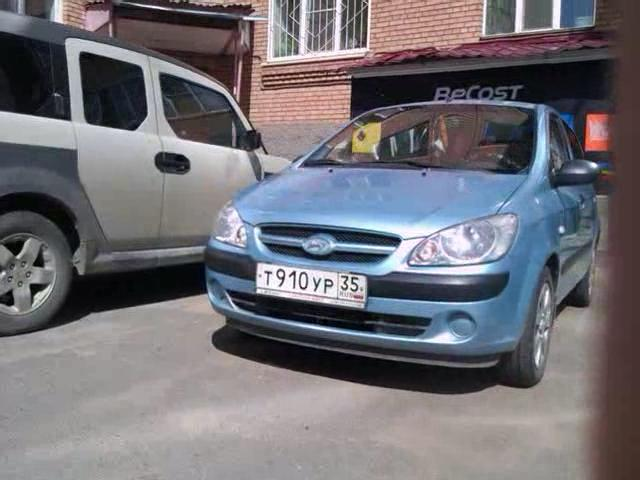car license plate: (254, 263, 367, 311)
